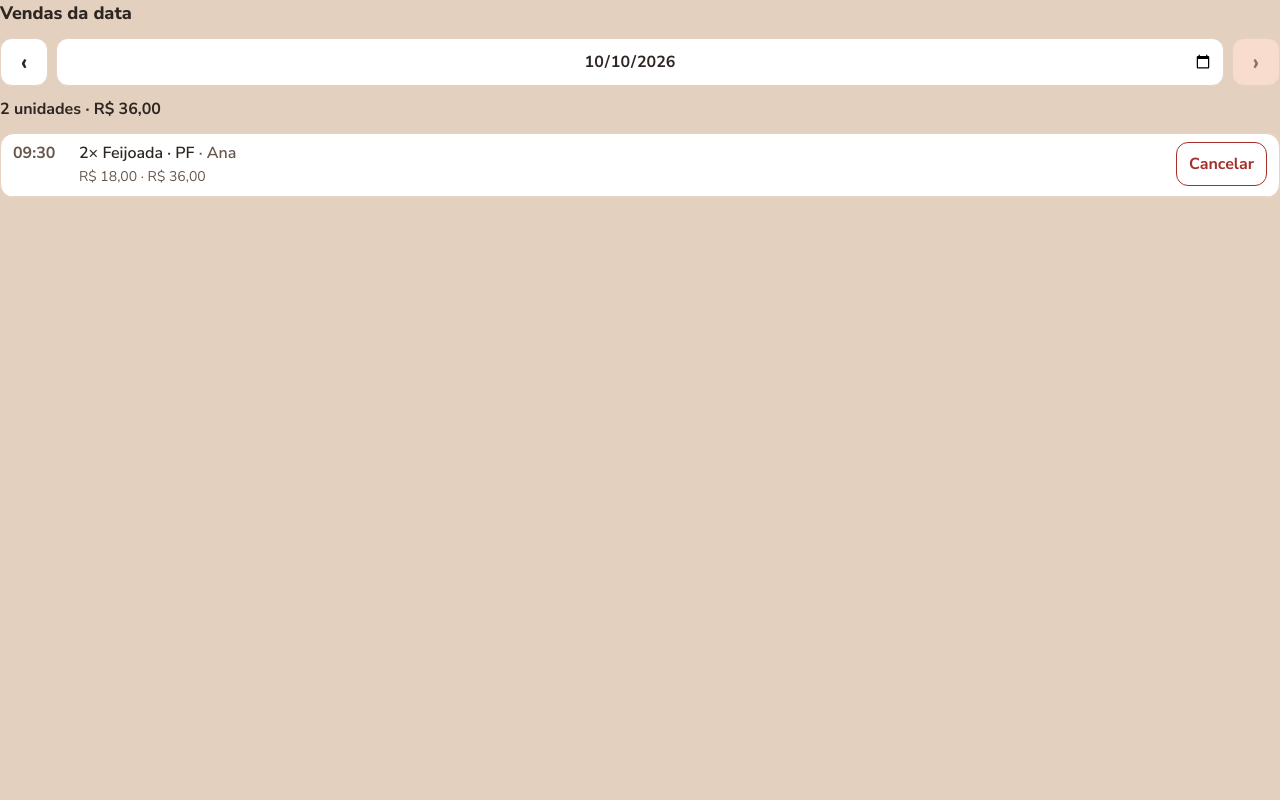
Test: UI-05 — vendas da data › cancelar exige motivo
Click the button "Cancelar" at (1222, 164), box [1176,142,1267,186]
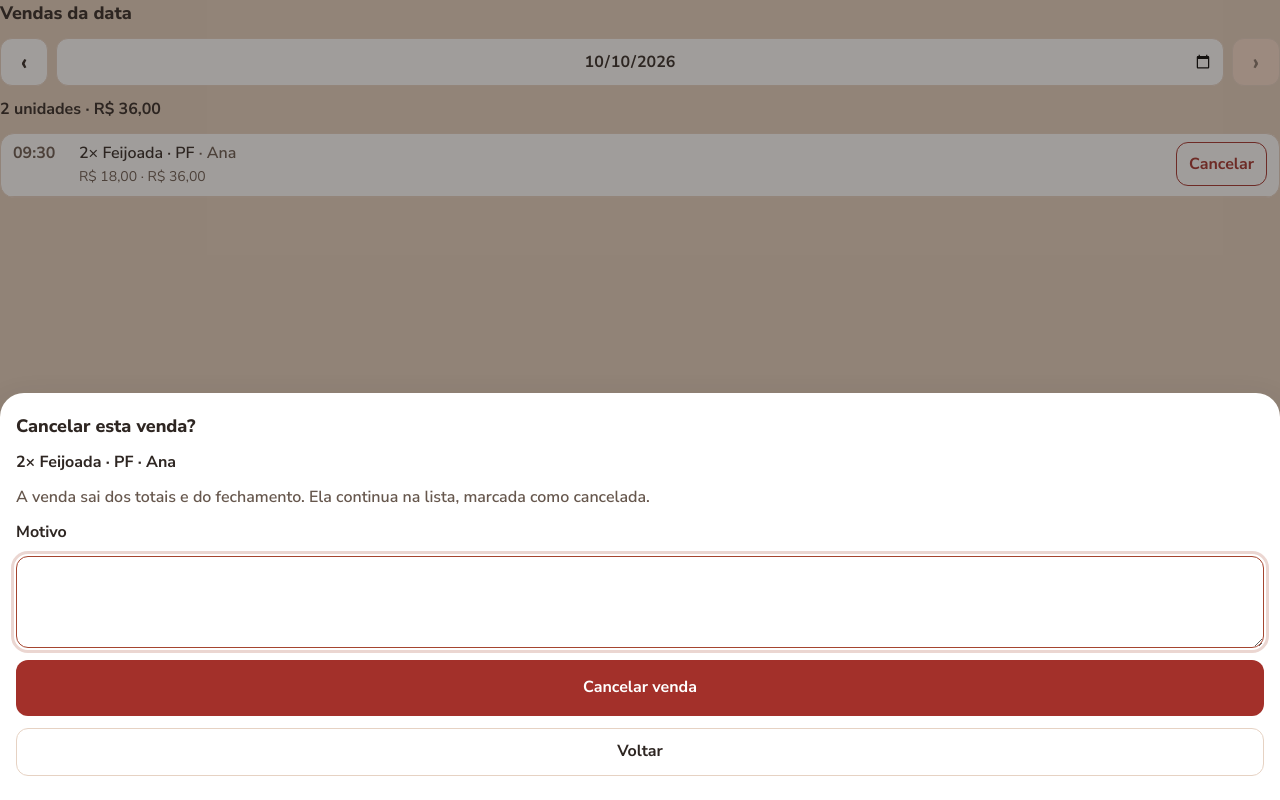
Click the button "Cancelar venda" at (640, 688), box [16,660,1264,716]
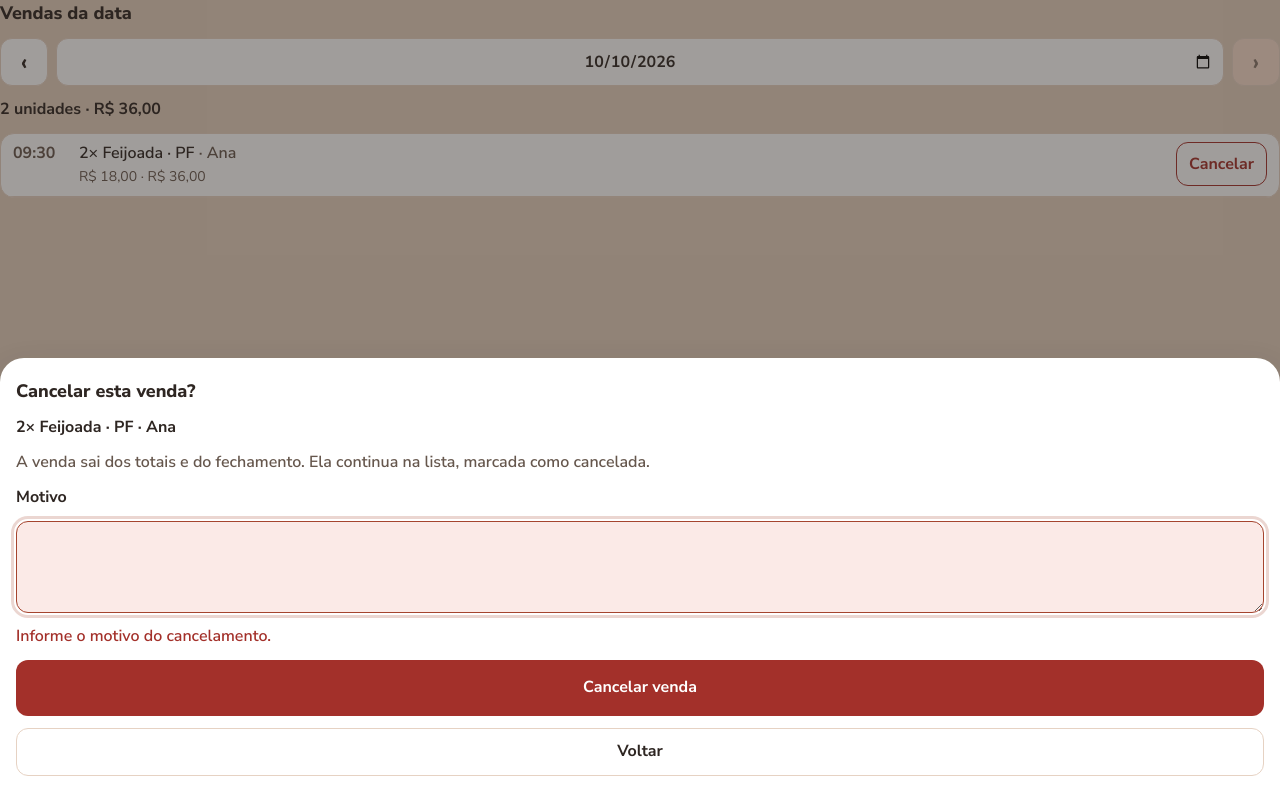
Expected: the text "Informe o motivo do cancelamento." is shown, [16,625,271,647]
